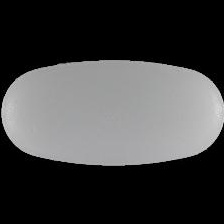43353-008: (0, 0, 224, 224)
